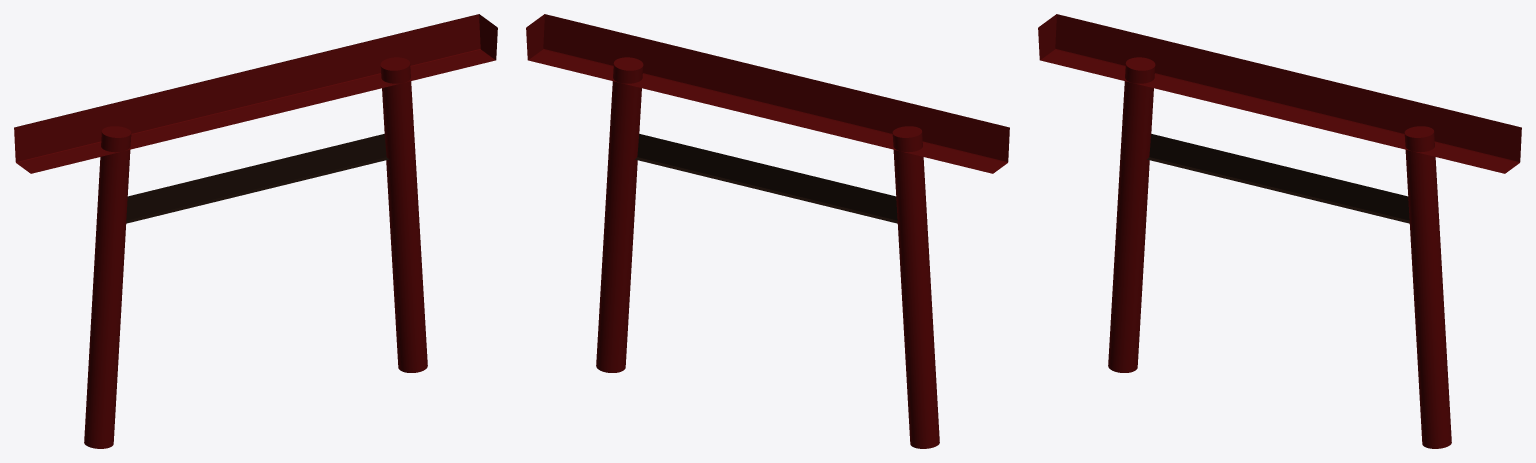
Rendered from Shinmei_Angled_2.obj.
3 renders of one model, left to right at view 1: azimuth 30°, elevation 25°; view 2: azimuth 150°, elevation 25°; view 3: azimuth 330°, elevation 25°, orthographic.
Parts seen in each view (by area): view 1: Cube.008_Cube.009; view 2: Cube.008_Cube.009; view 3: Cube.008_Cube.009.
Boxes of the visible parts, box(x1,y1,x2,y2) form: Cube.008_Cube.009: box(14, 14, 497, 448); Cube.008_Cube.009: box(526, 14, 1009, 448); Cube.008_Cube.009: box(1038, 14, 1521, 448).
Bounding box in the file's own units: 5.64 × 3.8 × 0.3961.
